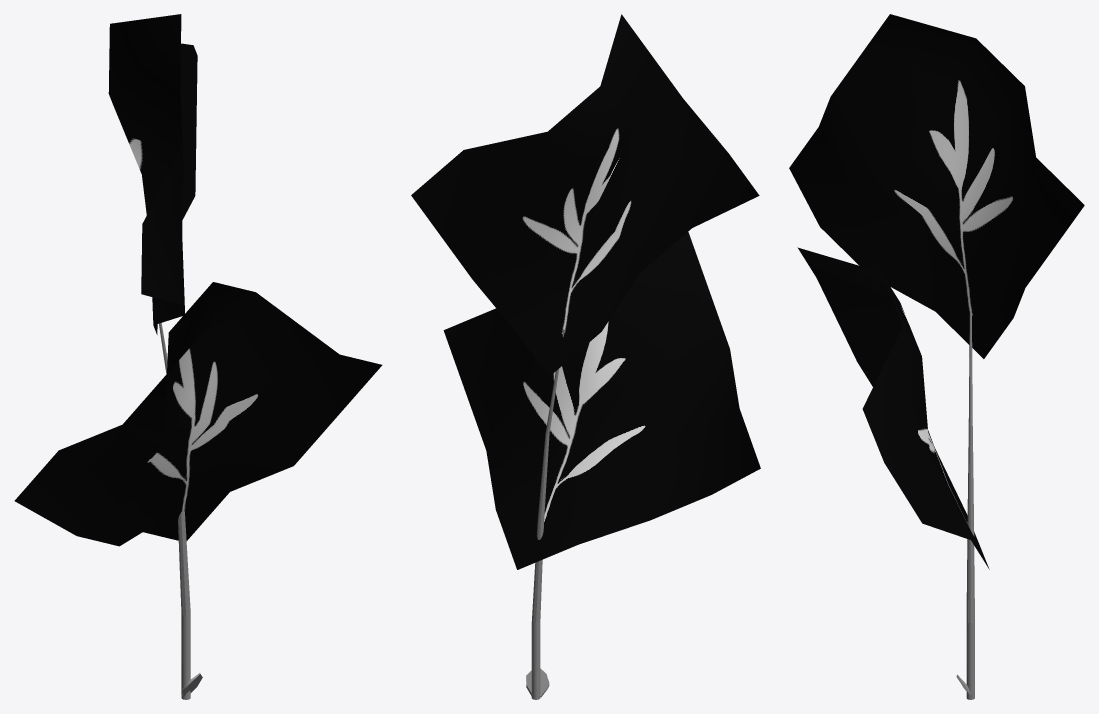
File: bamboo_test.FBX
3 renders of one model, left to right at view 1: azimuth 30°, elevation 25°; view 2: azimuth 150°, elevation 25°; view 3: azimuth 270°, elevation 25°, orthographic. The views are drawn at different scales.
Visible parts, largest first — view 1: Cylinder003; view 2: Cylinder003; view 3: Cylinder003.
Part boxes in pixels (x1,y1,x2,y2): Cylinder003: (14,14,382,699); Cylinder003: (411,14,760,699); Cylinder003: (789,14,1084,699).
Bounding box in the file's own units: 20.43 × 39.74 × 16.08.
